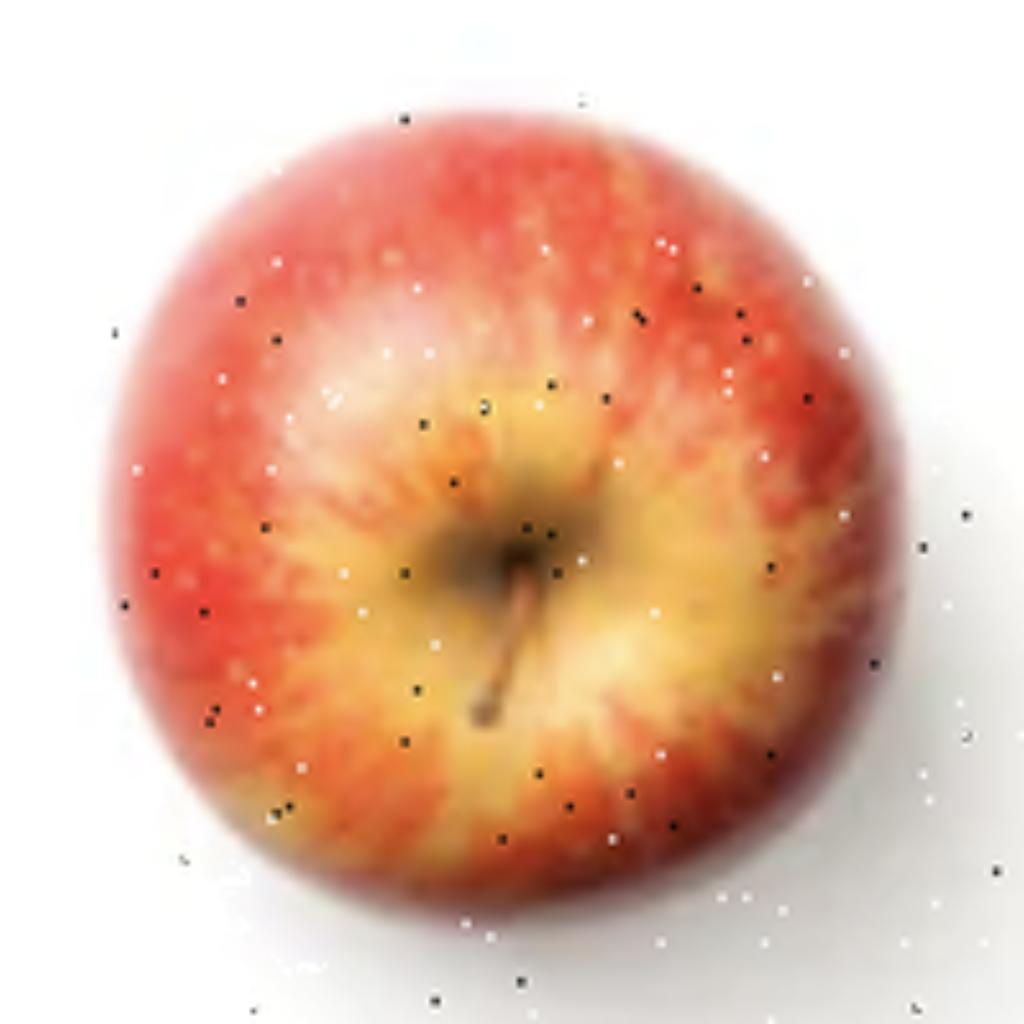apple: (82, 87, 993, 1019)
